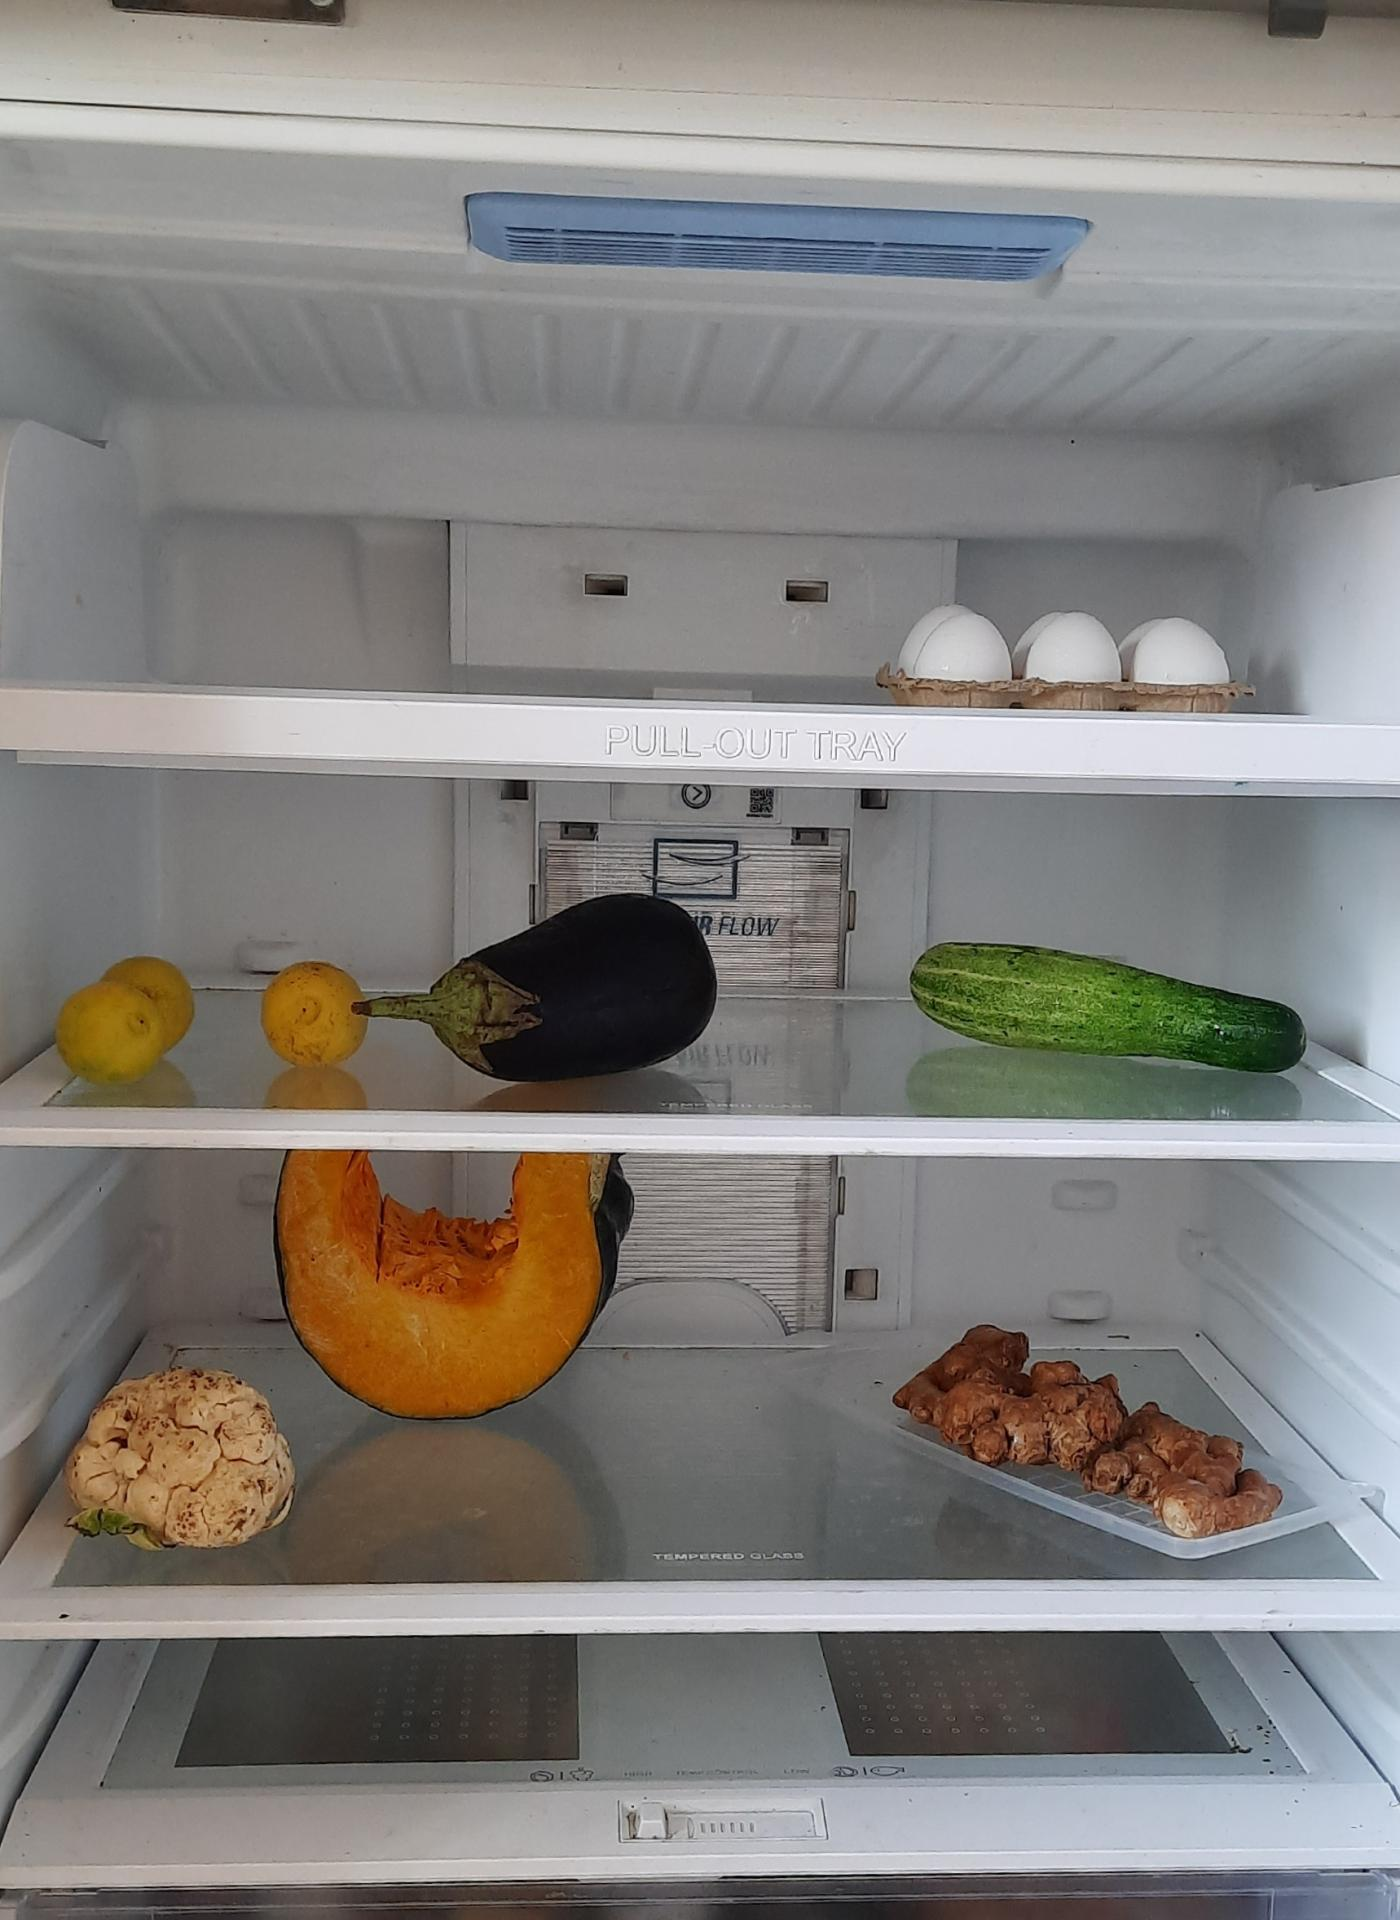brinjal: (398, 896, 720, 1075)
cauliflower: (61, 1365, 300, 1550)
cucumber: (905, 947, 1322, 1073)
egg: (889, 586, 1236, 720)
ginger: (886, 1319, 1281, 1518)
lemon: (52, 945, 204, 1076), (258, 957, 371, 1069)
pumpkin: (274, 1148, 644, 1425)
